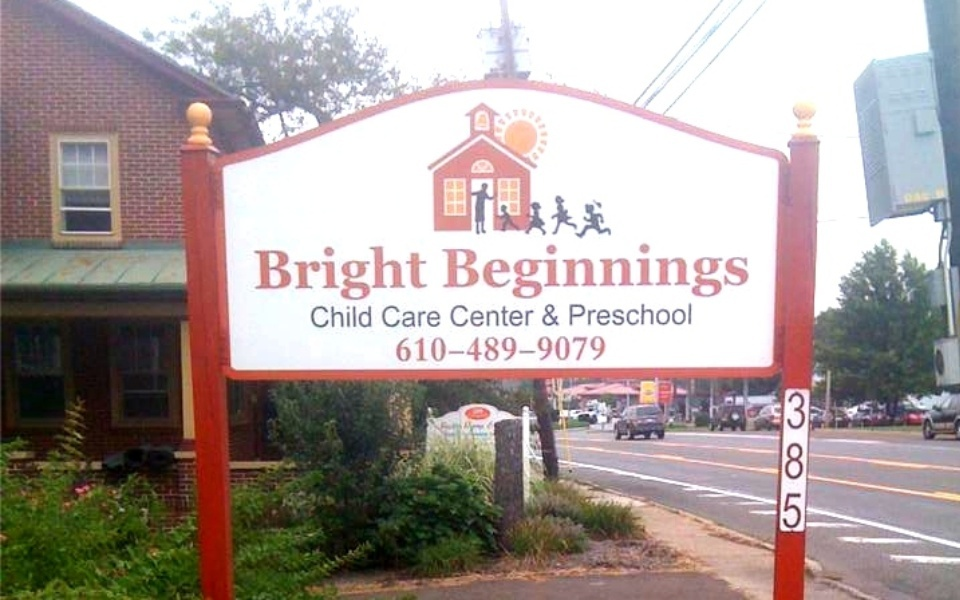text: (786, 390, 800, 531), (449, 243, 464, 301), (465, 243, 480, 301), (481, 243, 496, 301), (497, 243, 512, 301), (513, 243, 528, 301), (529, 243, 544, 301), (545, 243, 560, 301), (561, 243, 576, 301), (577, 243, 592, 301), (593, 243, 608, 301), (609, 243, 624, 301), (625, 243, 640, 301), (641, 243, 656, 301), (657, 243, 672, 301), (673, 243, 688, 301), (689, 243, 704, 301), (705, 243, 720, 301), (721, 243, 736, 301), (801, 390, 807, 531), (257, 246, 272, 301), (273, 246, 288, 301), (289, 246, 304, 301), (305, 246, 320, 301), (321, 246, 336, 301), (337, 246, 352, 301), (353, 246, 368, 301), (369, 246, 384, 301), (385, 246, 400, 301), (401, 246, 416, 301), (737, 243, 749, 301), (417, 246, 428, 301), (401, 335, 416, 363), (417, 335, 432, 363), (433, 335, 448, 363), (449, 335, 464, 363), (465, 335, 480, 363), (481, 335, 496, 363), (497, 335, 512, 363), (513, 335, 528, 363), (529, 335, 544, 363), (545, 335, 560, 363), (561, 335, 576, 363), (577, 335, 592, 363), (441, 243, 448, 301), (321, 303, 336, 329), (337, 303, 352, 329), (353, 303, 368, 329), (465, 303, 480, 329), (481, 303, 496, 329), (497, 303, 512, 329), (513, 303, 528, 329), (450, 303, 464, 329), (593, 335, 606, 363), (385, 305, 400, 329), (401, 305, 416, 329), (417, 305, 432, 329), (545, 303, 560, 327), (577, 303, 592, 327), (593, 303, 608, 327), (609, 303, 624, 327), (625, 303, 640, 327), (641, 303, 656, 327), (657, 303, 672, 327), (673, 303, 688, 327), (913, 185, 928, 208), (929, 185, 944, 208), (900, 185, 912, 208), (310, 303, 320, 329), (433, 305, 442, 329), (394, 335, 400, 363), (529, 303, 535, 329), (570, 303, 576, 327), (254, 246, 256, 301), (369, 303, 373, 329), (689, 303, 693, 327), (381, 305, 384, 329), (541, 303, 544, 327), (945, 185, 947, 208)
